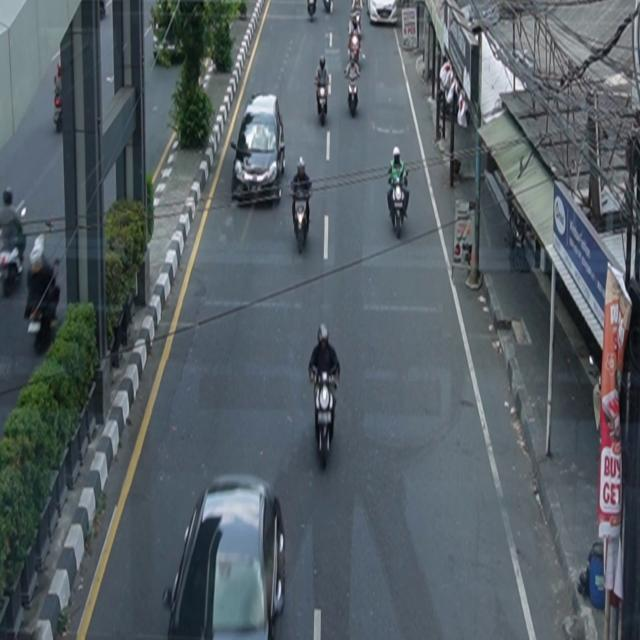car: (163, 475, 287, 640), (231, 93, 286, 206), (367, 1, 398, 26)
